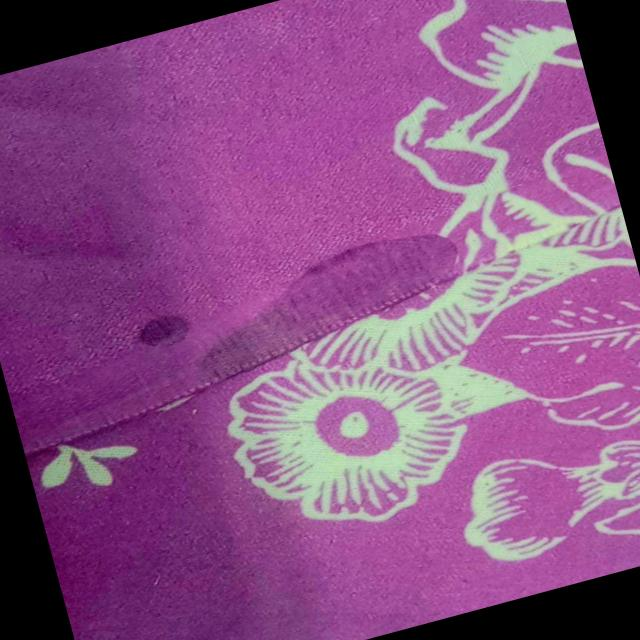stain: (115, 216, 483, 404)
